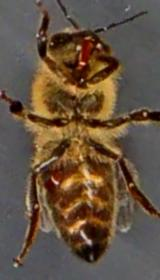varroa_mite: (39, 161, 68, 196)
